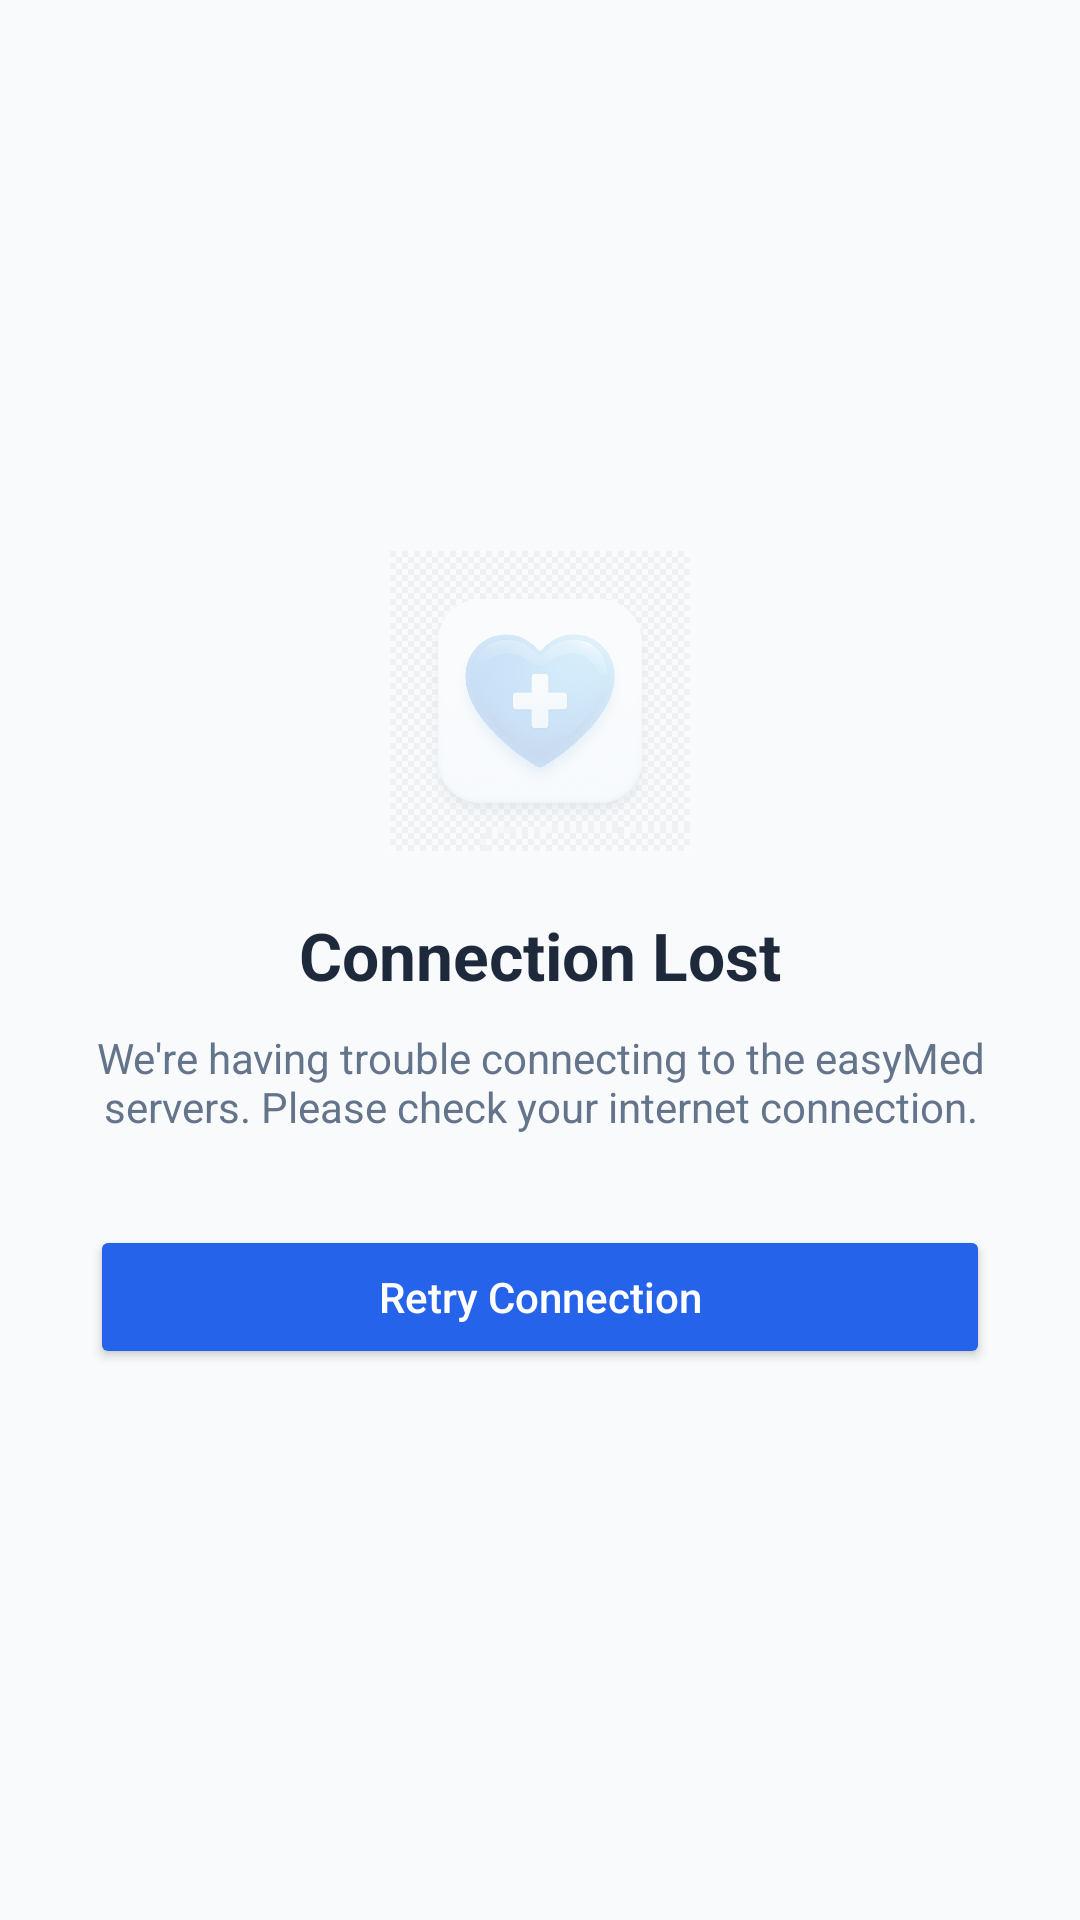

Where to tap for icons on this 1080px×1920px app screen, as [x,y]:
easymed: [539,701]
